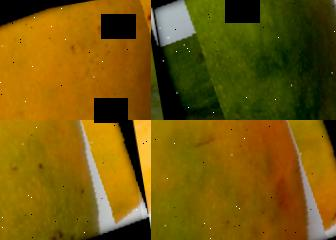PartiallyRipe: (151, 120, 336, 240), (0, 0, 151, 120), (0, 120, 146, 240)
Unripe: (151, 0, 336, 120)
